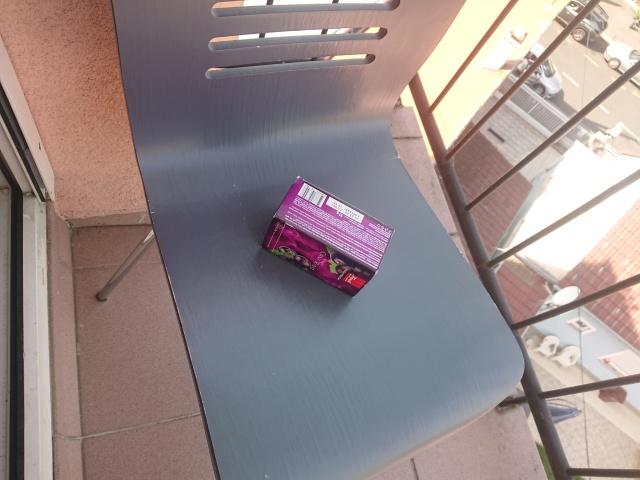Franck Black Currant Tea 60g: (259, 173, 398, 299)
